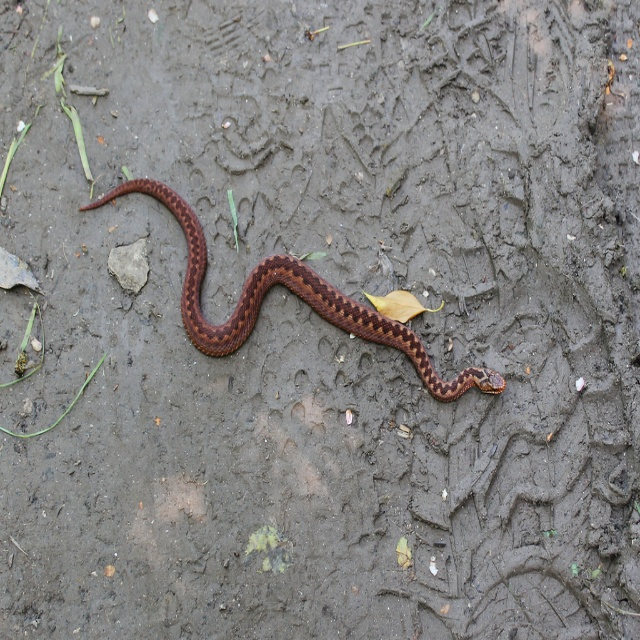Snake: (76, 177, 507, 406)
